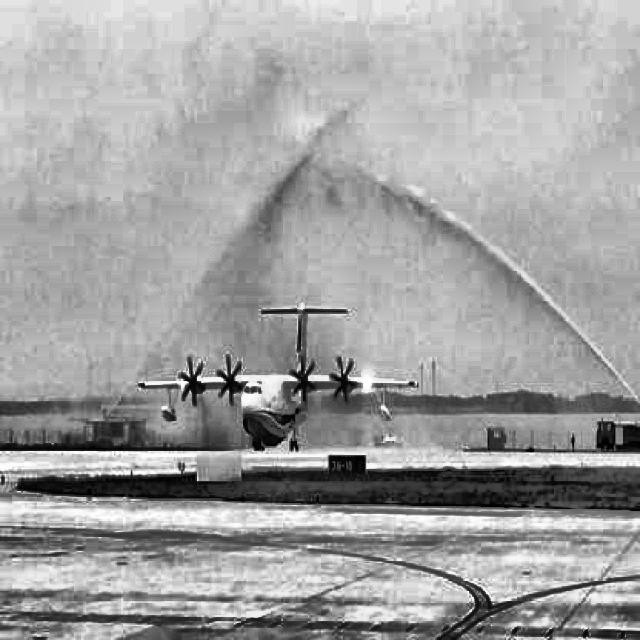AG600: (138, 302, 419, 452)
